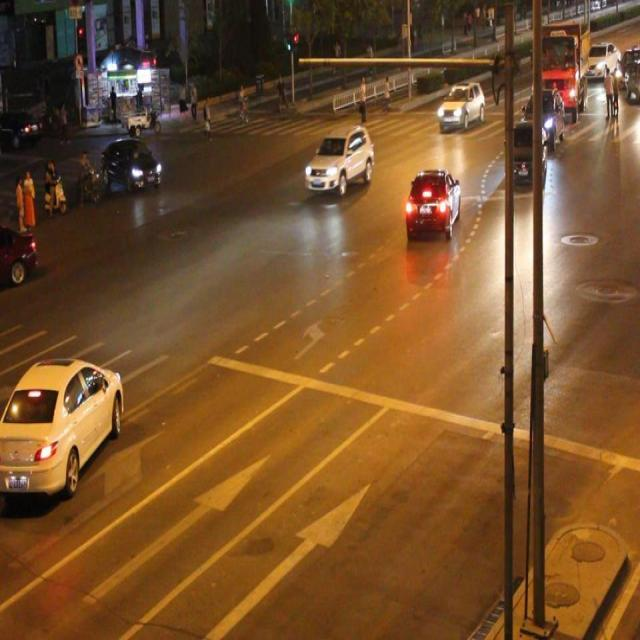BigCar: (534, 25, 591, 120)
car: (1, 349, 126, 506), (306, 118, 375, 204), (405, 163, 461, 244), (100, 138, 165, 202), (506, 116, 551, 192), (438, 78, 487, 139), (525, 90, 567, 148), (588, 40, 619, 81)
